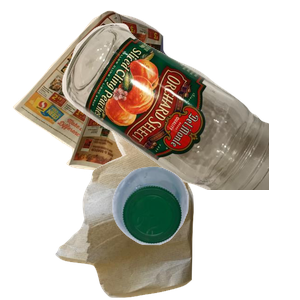glass: (60, 21, 300, 201)
paper: (10, 10, 217, 189)
plastic: (110, 164, 300, 300)
trash: (53, 121, 239, 300)
